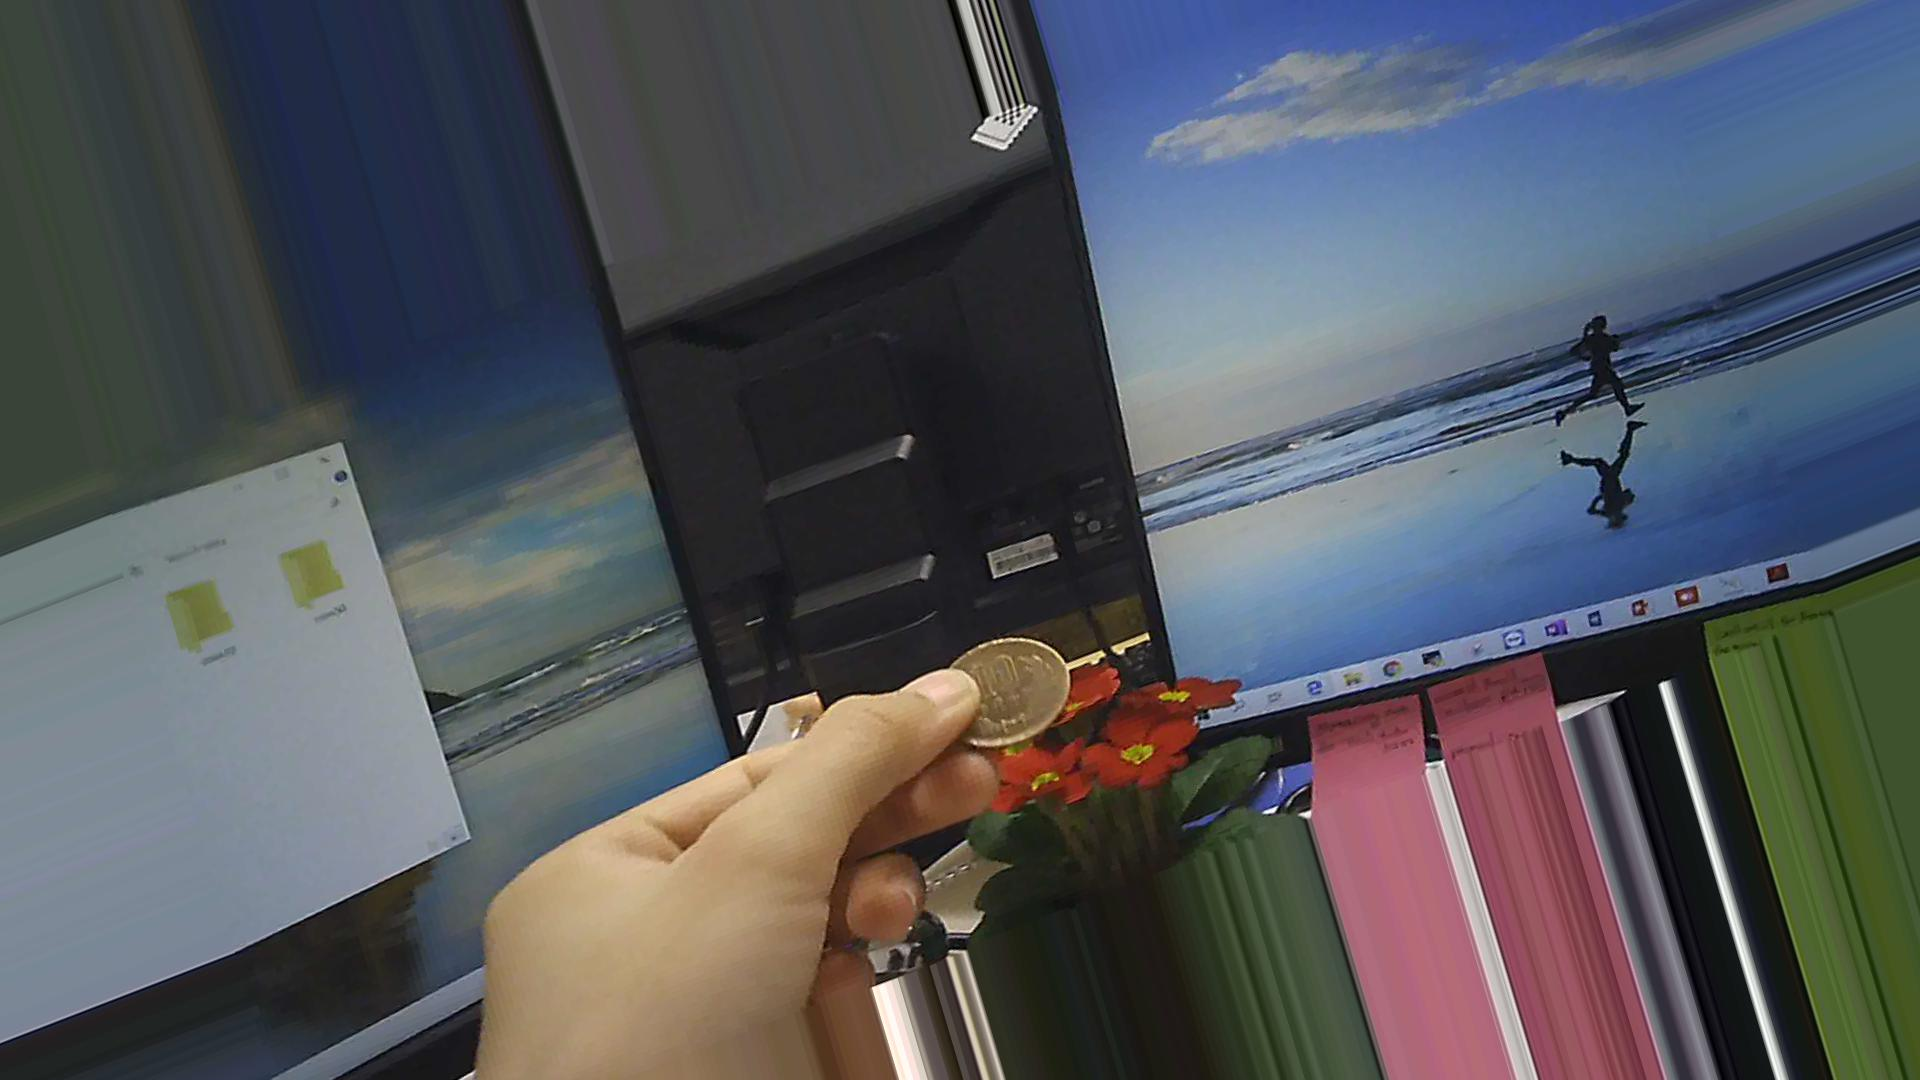10 Yen: (931, 640, 1073, 741)
